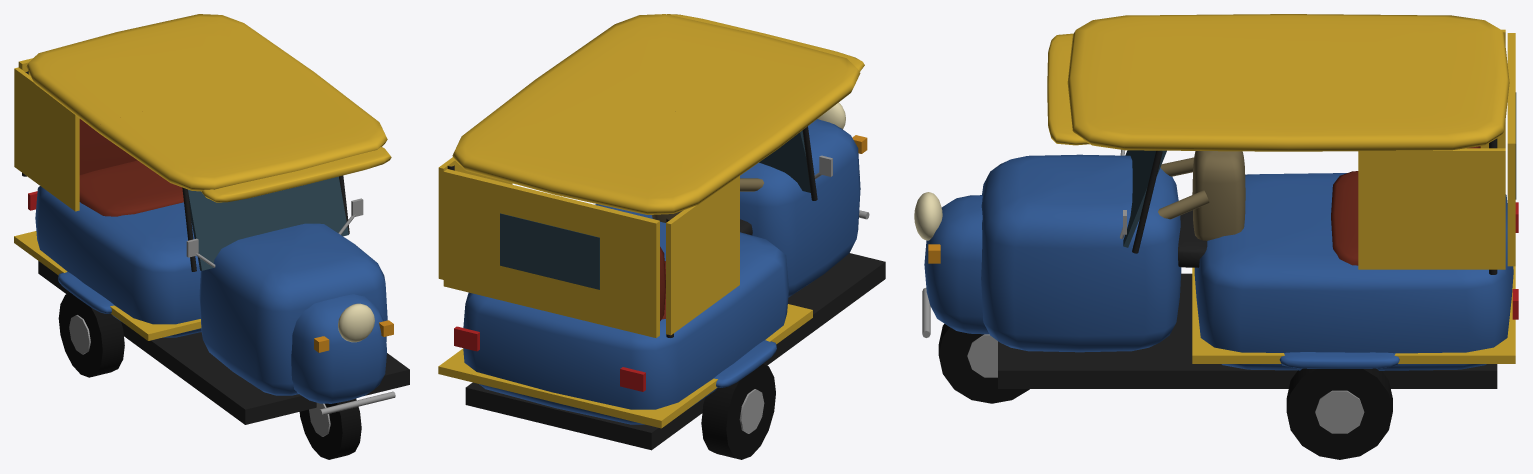
File: auto_blue.glb
3 views of the same model, side by side, from view 1: azimuth 30°, elevation 25°; view 2: azimuth 150°, elevation 25°; view 3: azimuth 270°, elevation 25° (orthographic). The views are drawn at different scales.
Visible parts, largest first — view 1: auto_blue; view 2: auto_blue; view 3: auto_blue.
Boxes of the visible parts, x1,y1,x2,y2 form: auto_blue: [14, 14, 409, 459]; auto_blue: [438, 14, 885, 459]; auto_blue: [914, 14, 1518, 459].
Bounding box in the file's own units: 1.48 × 1.75 × 2.95.
